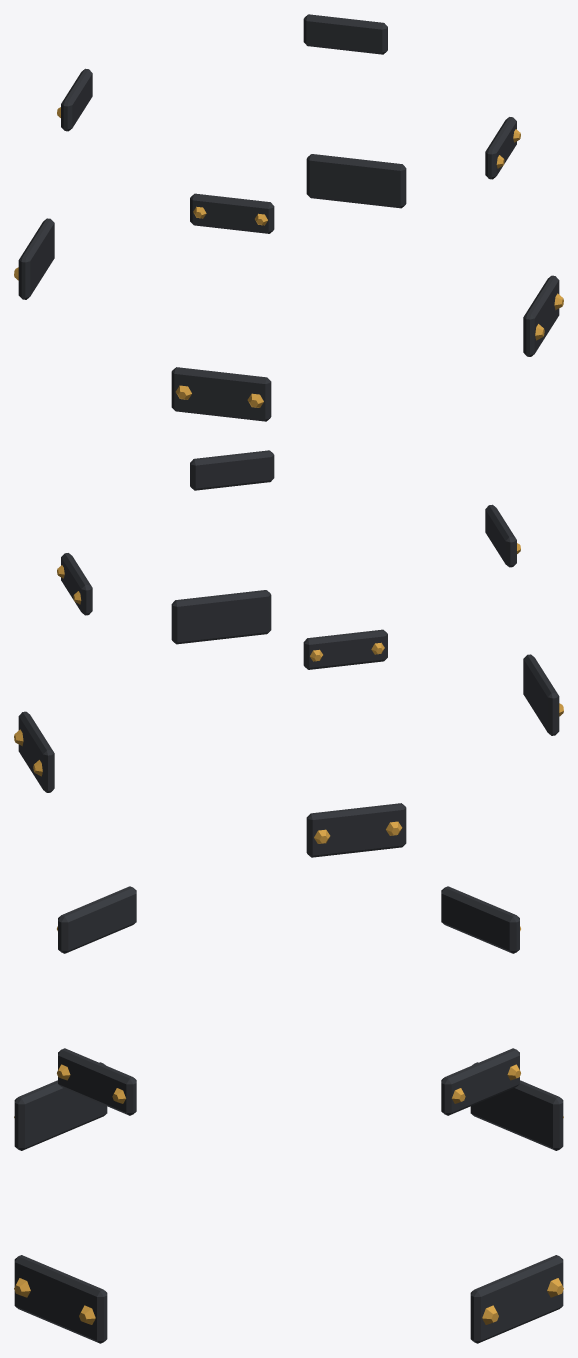
File: FlameKit2.obj
The picture shows the model from 3 angles, top to bottom: view 1: azimuth 30°, elevation 25°; view 2: azimuth 150°, elevation 25°; view 3: azimuth 270°, elevation 25°; orthographic projection. The views are drawn at different scales.
Visible parts, largest first — view 1: FlameKit2; view 2: FlameKit2; view 3: FlameKit2.
Boxes of the visible parts, box(x1,y1,x2,y2) form: FlameKit2: box(14, 14, 563, 421); FlameKit2: box(14, 450, 563, 857); FlameKit2: box(14, 886, 563, 1343).
Bounding box in the file's own units: 1.14 × 0.5625 × 1.14.
